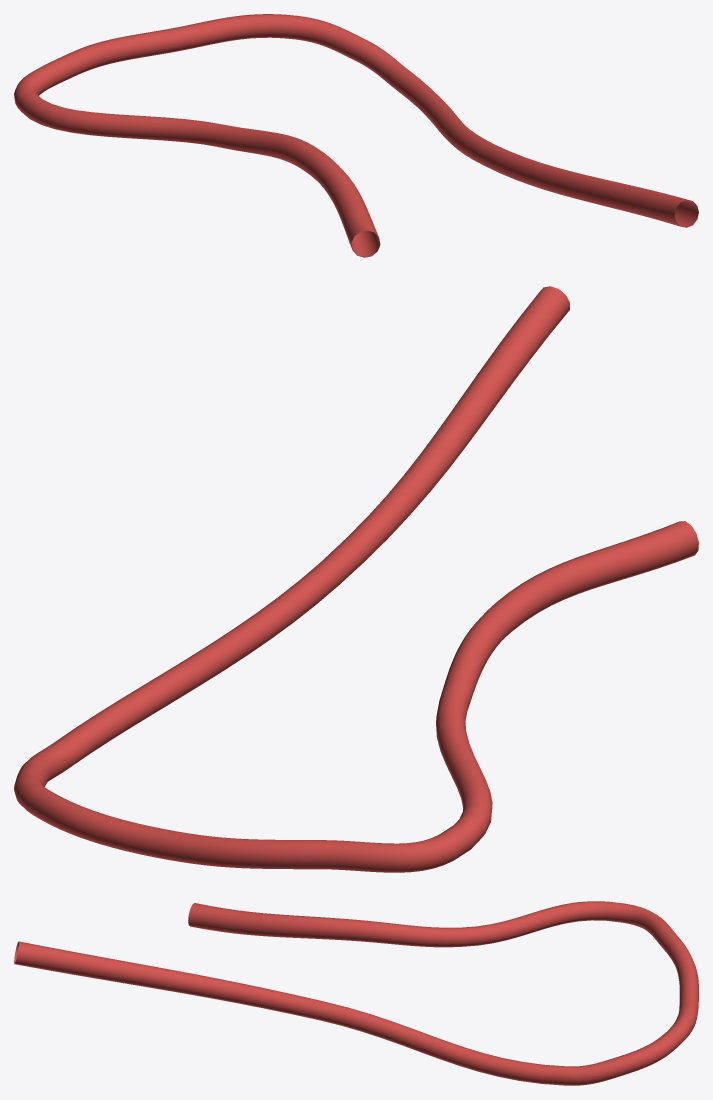
The picture shows the model from 3 angles, top to bottom: view 1: azimuth 30°, elevation 25°; view 2: azimuth 150°, elevation 25°; view 3: azimuth 270°, elevation 25°; orthographic projection. The views are drawn at different scales.
Visible parts, largest first — view 1: 左侧掌浅弓; view 2: 左侧掌浅弓; view 3: 左侧掌浅弓.
Part boxes in pixels (x1,y1,x2,y2): 左侧掌浅弓: (14,14,698,257); 左侧掌浅弓: (14,286,698,872); 左侧掌浅弓: (14,901,698,1085).
Size of the model in its own units: 0.0519 by 0.0204 by 0.1043.
